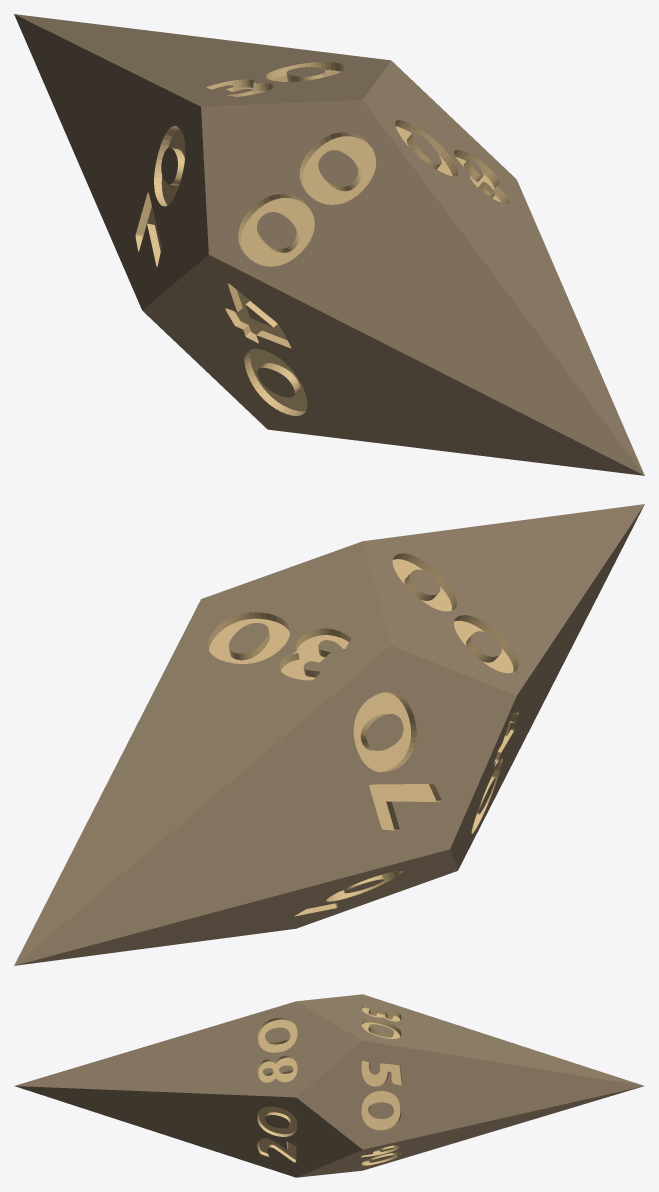
Rendered from fate-d100.glb.
The picture shows the model from 3 angles, top to bottom: view 1: azimuth 30°, elevation 25°; view 2: azimuth 150°, elevation 25°; view 3: azimuth 270°, elevation 25°; orthographic projection. The views are drawn at different scales.
Parts seen in each view (by area): view 1: Collection Numbered - d100 text-1_Dice_0, Collection Numbered - d100 text-1_Numbers_0; view 2: Collection Numbered - d100 text-1_Dice_0, Collection Numbered - d100 text-1_Numbers_0; view 3: Collection Numbered - d100 text-1_Dice_0, Collection Numbered - d100 text-1_Numbers_0.
Part boxes in pixels (x1=…): Collection Numbered - d100 text-1_Dice_0: x1=14, y1=14, x2=644, y2=475; Collection Numbered - d100 text-1_Numbers_0: x1=135, y1=62, x2=508, y2=415; Collection Numbered - d100 text-1_Dice_0: x1=14, y1=504, x2=644, y2=965; Collection Numbered - d100 text-1_Numbers_0: x1=208, y1=553, x2=518, y2=916; Collection Numbered - d100 text-1_Dice_0: x1=14, y1=994, x2=643, y2=1177; Collection Numbered - d100 text-1_Numbers_0: x1=257, y1=1004, x2=402, y2=1165.
Bounding box in the file's own units: 21.27 × 22.36 × 75.48.
